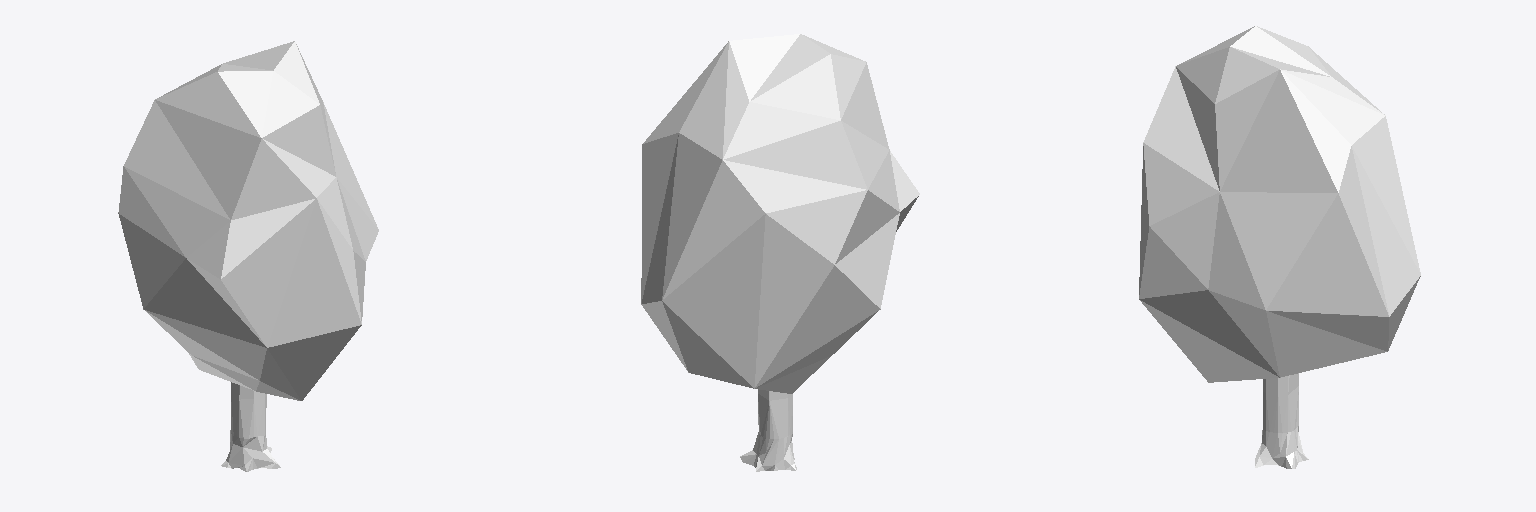
Rendered from tree.obj.
3 views of the same model, side by side, from view 1: azimuth 30°, elevation 25°; view 2: azimuth 150°, elevation 25°; view 3: azimuth 270°, elevation 25° (orthographic).
Parts seen in each view (by area): view 1: Sphere001; view 2: Sphere001; view 3: Sphere001.
Boxes of the visible parts, x1=… form: Sphere001: x1=118, y1=41, x2=378, y2=471; Sphere001: x1=641, y1=34, x2=919, y2=471; Sphere001: x1=1139, y1=26, x2=1420, y2=468.
Size of the model in its own units: 495 by 836 by 520.